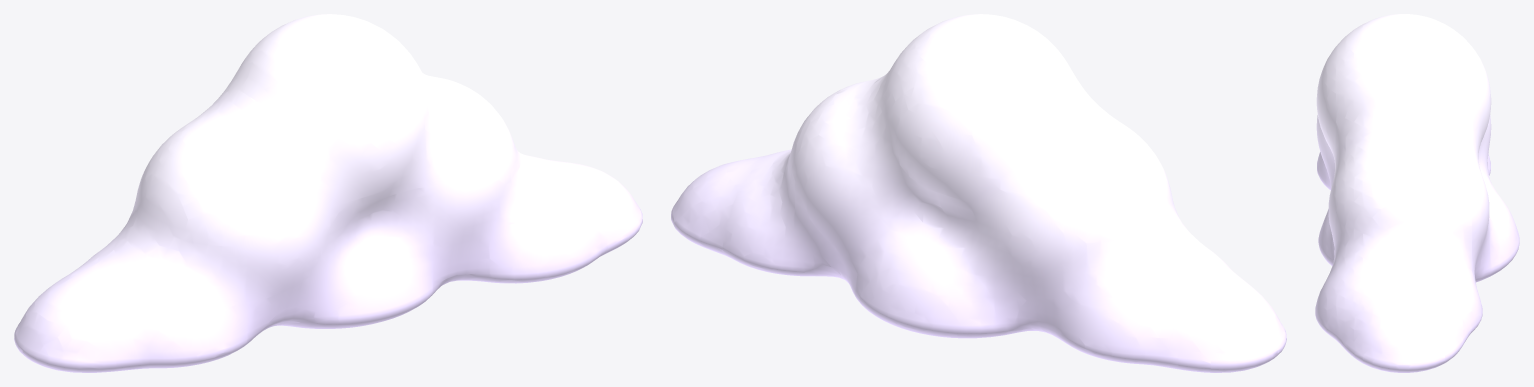
The model's file is cloud-c.glb.
3 views of the same model, side by side, from view 1: azimuth 30°, elevation 25°; view 2: azimuth 150°, elevation 25°; view 3: azimuth 270°, elevation 25° (orthographic). The views are drawn at different scales.
Parts seen in each view (by area): view 1: cloud-c; view 2: cloud-c; view 3: cloud-c.
Boxes of the visible parts, left/top/right/bottom form: cloud-c: left=14, top=14, right=642, bottom=372; cloud-c: left=671, top=14, right=1286, bottom=372; cloud-c: left=1315, top=14, right=1519, bottom=372.
Size of the model in its own units: 6 by 2.69 by 2.05.
